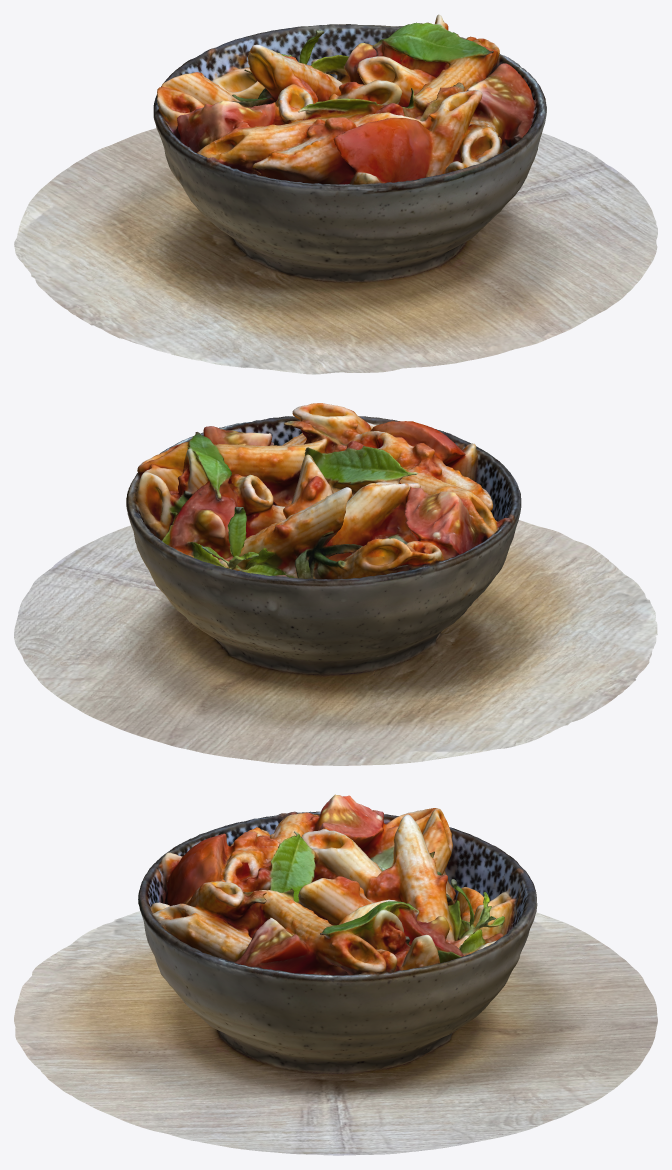
File: pasta.glb
3 renders of one model, top to bottom at view 1: azimuth 30°, elevation 25°; view 2: azimuth 150°, elevation 25°; view 3: azimuth 270°, elevation 25°, orthographic.
Visible parts, largest first — view 1: Object_2, Object_3; view 2: Object_2, Object_3; view 3: Object_2, Object_3.
Part boxes in pixels (box(x1,y1,x2,y2)): Object_2: box(14, 14, 657, 374); Object_3: box(53, 36, 602, 374); Object_2: box(20, 403, 657, 765); Object_3: box(14, 416, 645, 740); Object_2: box(14, 794, 657, 1155); Object_3: box(14, 803, 605, 1154).
Size of the model in its own units: 0.2428 by 0.076 by 0.2419.
1 material, 1 textured.
